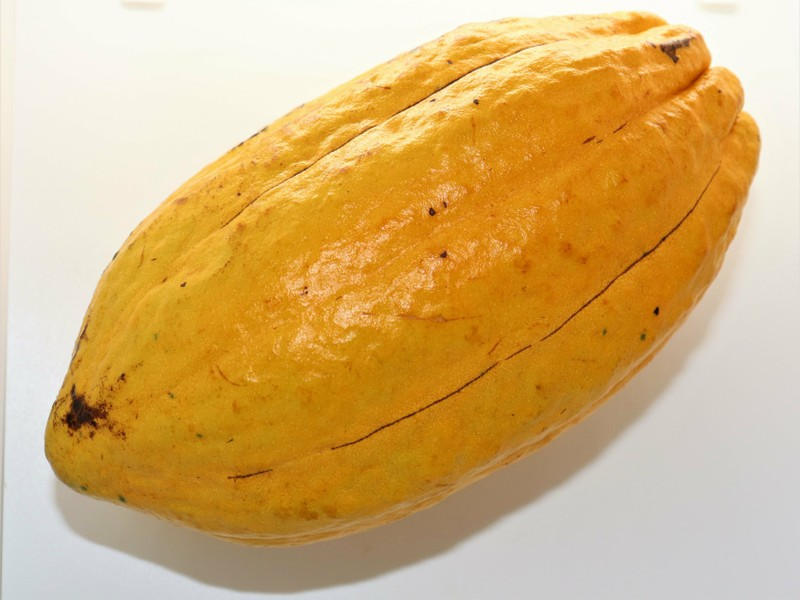Cacaopod: (46, 13, 763, 544)
